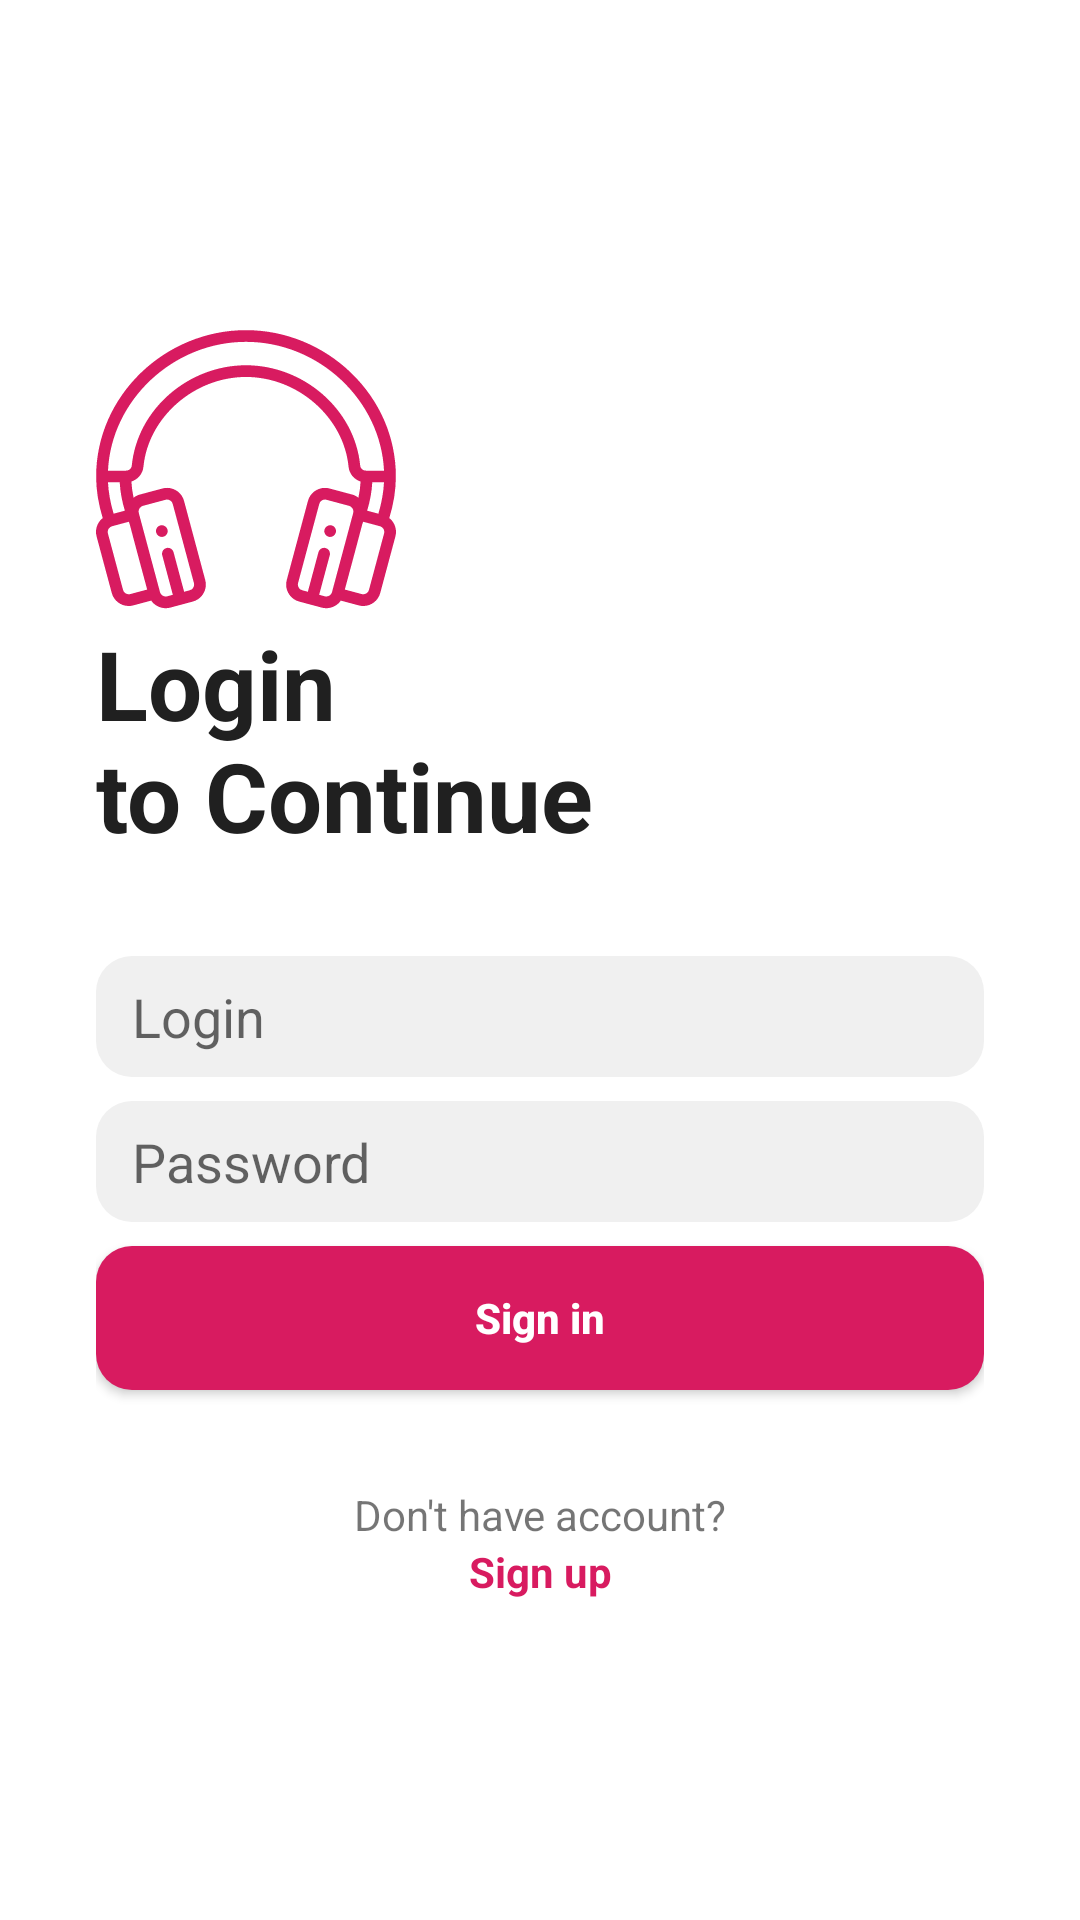

Named icons in this screenshot (1080 × 1920) and their bounding boxes, (x1, y1, x2, y2):
headphones: (96, 330, 396, 609)
